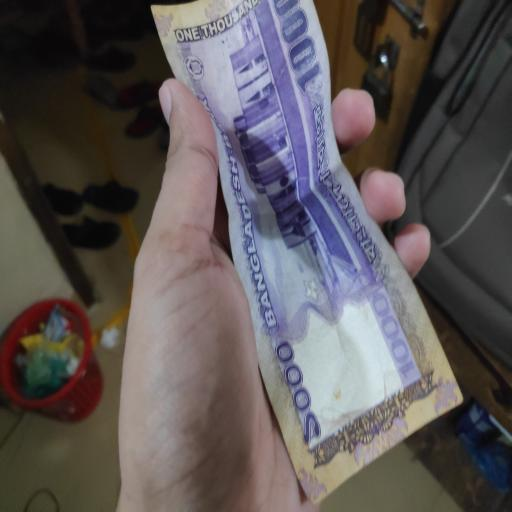1000taka: (153, 1, 462, 503)
